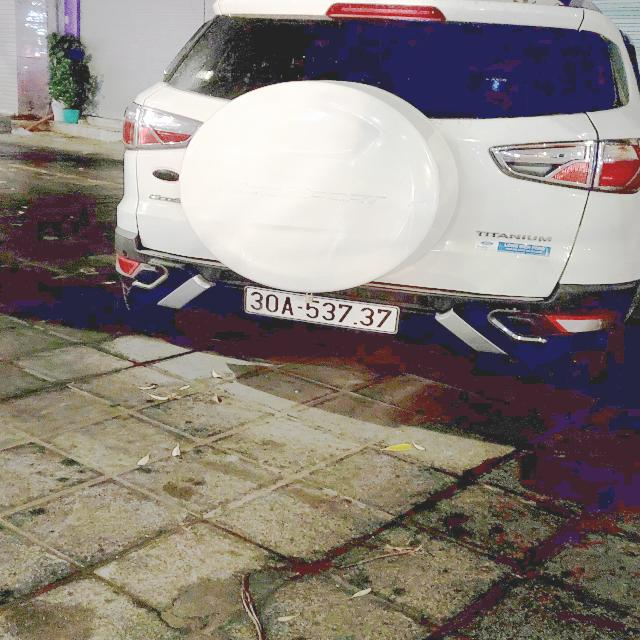license_plate: (244, 286, 401, 335)
